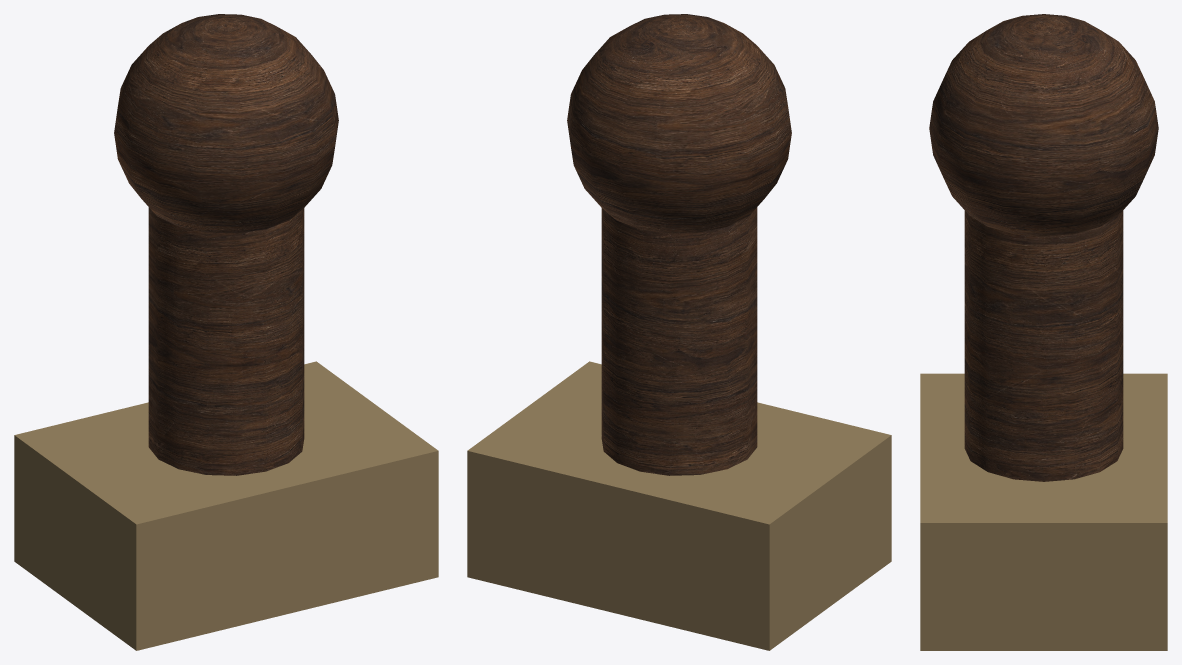
File: stamp.glb
The picture shows the model from 3 angles, left to right: view 1: azimuth 30°, elevation 25°; view 2: azimuth 150°, elevation 25°; view 3: azimuth 270°, elevation 25°; orthographic projection.
Parts seen in each view (by area): view 1: stamp_base, stamp_top, stamp_handle; view 2: stamp_base, stamp_top, stamp_handle; view 3: stamp_base, stamp_top, stamp_handle.
Boxes of the visible parts, x1=… form: stamp_base: x1=14, y1=361, x2=438, y2=650; stamp_top: x1=114, y1=14, x2=338, y2=233; stamp_handle: x1=148, y1=207, x2=304, y2=475; stamp_base: x1=467, y1=361, x2=891, y2=650; stamp_top: x1=567, y1=14, x2=791, y2=233; stamp_handle: x1=601, y1=207, x2=757, y2=475; stamp_base: x1=920, y1=373, x2=1167, y2=650; stamp_top: x1=929, y1=14, x2=1158, y2=236; stamp_handle: x1=964, y1=210, x2=1123, y2=481.
Size of the model in its own units: 0.2 by 0.345 by 0.14.
2 materials, 1 textured.
